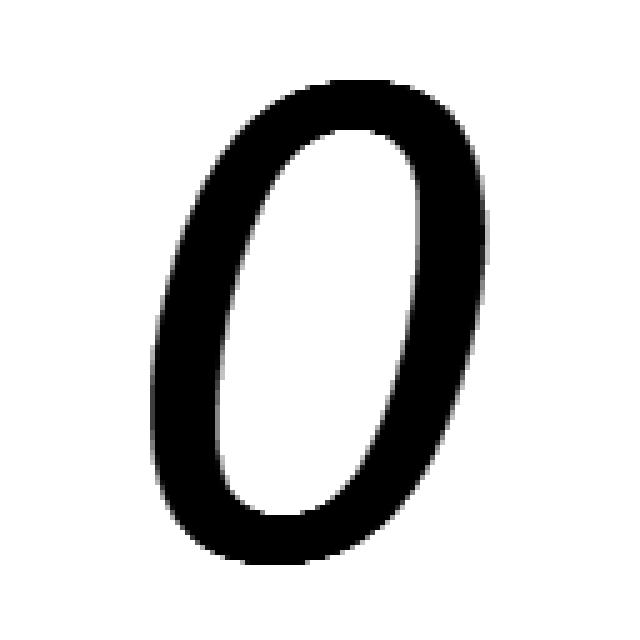O: (150, 80, 490, 570)
